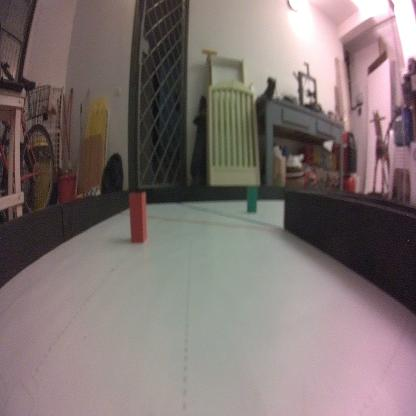green: (245, 184, 258, 215)
red: (128, 190, 148, 245)
